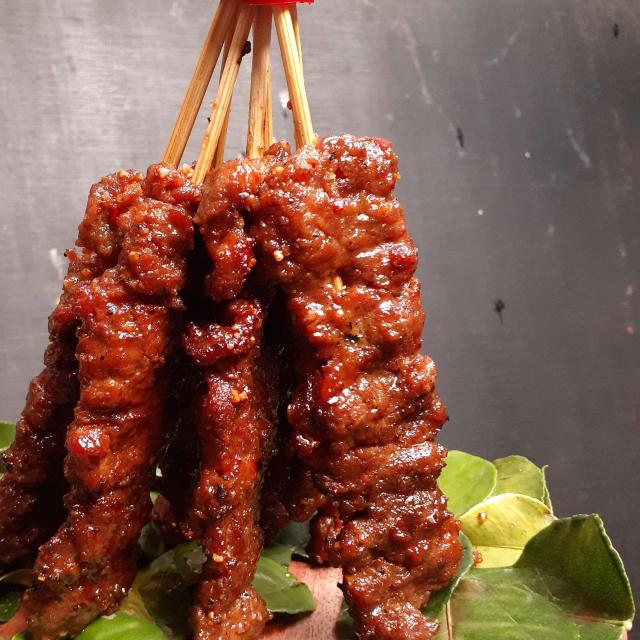Sate: (60, 66, 464, 596)
